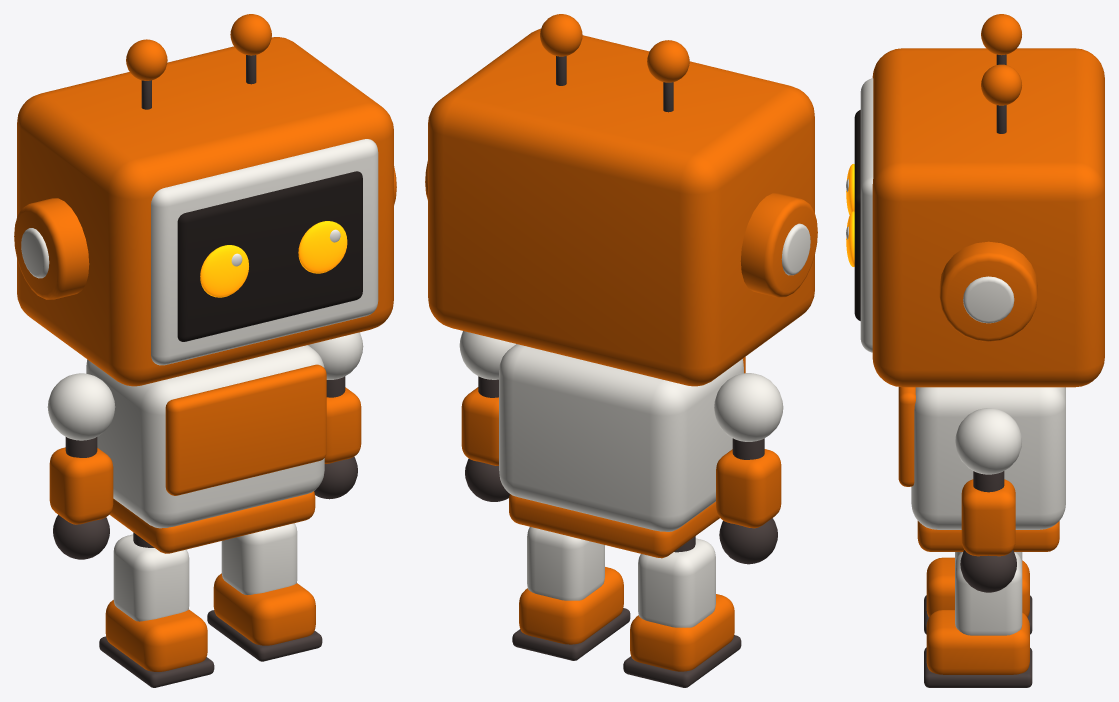
Rendered from chibi.glb.
The picture shows the model from 3 angles, left to right: view 1: azimuth 30°, elevation 25°; view 2: azimuth 150°, elevation 25°; view 3: azimuth 270°, elevation 25°; orthographic projection. The views are drawn at different scales.
Visible parts, largest first — view 1: Head_Shell, Head_Screen, Head_Bezel, Torso_Body, Torso_ChestPlate, Leg_L_Armor, Head_Ear_L, Torso_Waist, Leg_R_Boot, Leg_L_Boot, Leg_R_Armor, Arm_L_Forearm (+13 smaller); view 2: Head_Shell, Torso_Body, Leg_L_Armor, Head_Ear_L, Torso_Waist, Leg_R_Armor, Leg_L_Boot, Leg_R_Boot, Arm_L_Forearm, Arm_L_Shoulder, Arm_R_Forearm, Arm_L_Hand (+8 smaller); view 3: Head_Shell, Torso_Body, Head_Ear_R, Leg_R_Boot, Arm_R_Forearm, Leg_R_Armor, Head_Bezel, Arm_R_Shoulder, Torso_Waist, Leg_L_Boot, Head_EarCenter_R, Arm_R_Hand (+6 smaller).
Part boxes in pixels (x1,y1,x2,y2): Head_Shell: (17, 37, 393, 386); Head_Screen: (177, 171, 362, 341); Head_Bezel: (151, 139, 378, 365); Torso_Body: (86, 345, 324, 528); Torso_ChestPlate: (165, 364, 326, 495); Leg_L_Armor: (113, 534, 189, 621); Head_Ear_L: (14, 198, 89, 299); Torso_Waist: (109, 491, 315, 553); Leg_R_Boot: (213, 573, 315, 645); Leg_L_Boot: (105, 600, 207, 671); Leg_R_Armor: (221, 523, 297, 594); Arm_L_Forearm: (49, 447, 113, 524); Head_Shell: (428, 28, 814, 386); Torso_Body: (499, 344, 743, 531); Leg_L_Armor: (638, 538, 715, 627); Head_Ear_L: (740, 193, 817, 297); Torso_Waist: (509, 494, 719, 558); Leg_R_Armor: (527, 527, 604, 600); Leg_L_Boot: (630, 594, 734, 671); Leg_R_Boot: (519, 567, 623, 644); Arm_L_Forearm: (716, 449, 781, 528); Arm_L_Shoulder: (714, 373, 783, 441); Arm_R_Forearm: (461, 387, 498, 465); Arm_L_Hand: (719, 518, 777, 564); Head_Shell: (872, 48, 1104, 387); Torso_Body: (911, 387, 1065, 529); Head_Ear_R: (939, 241, 1037, 341); Leg_R_Boot: (926, 610, 1029, 674); Arm_R_Forearm: (961, 479, 1015, 556); Leg_R_Armor: (955, 552, 1022, 635); Head_Bezel: (860, 78, 873, 352); Arm_R_Shoulder: (955, 408, 1021, 474); Torso_Waist: (917, 521, 1059, 551); Leg_L_Boot: (926, 557, 1029, 617); Head_EarCenter_R: (963, 276, 1014, 323); Arm_R_Hand: (960, 550, 1016, 592).
Bounding box in the file's own units: 0.954 × 1.61 × 0.624.
